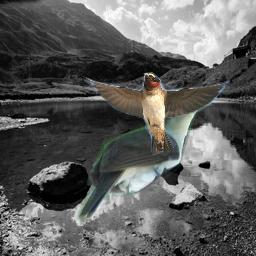Cuckoo: (77, 99, 214, 222)
Swallow: (82, 72, 230, 155)
